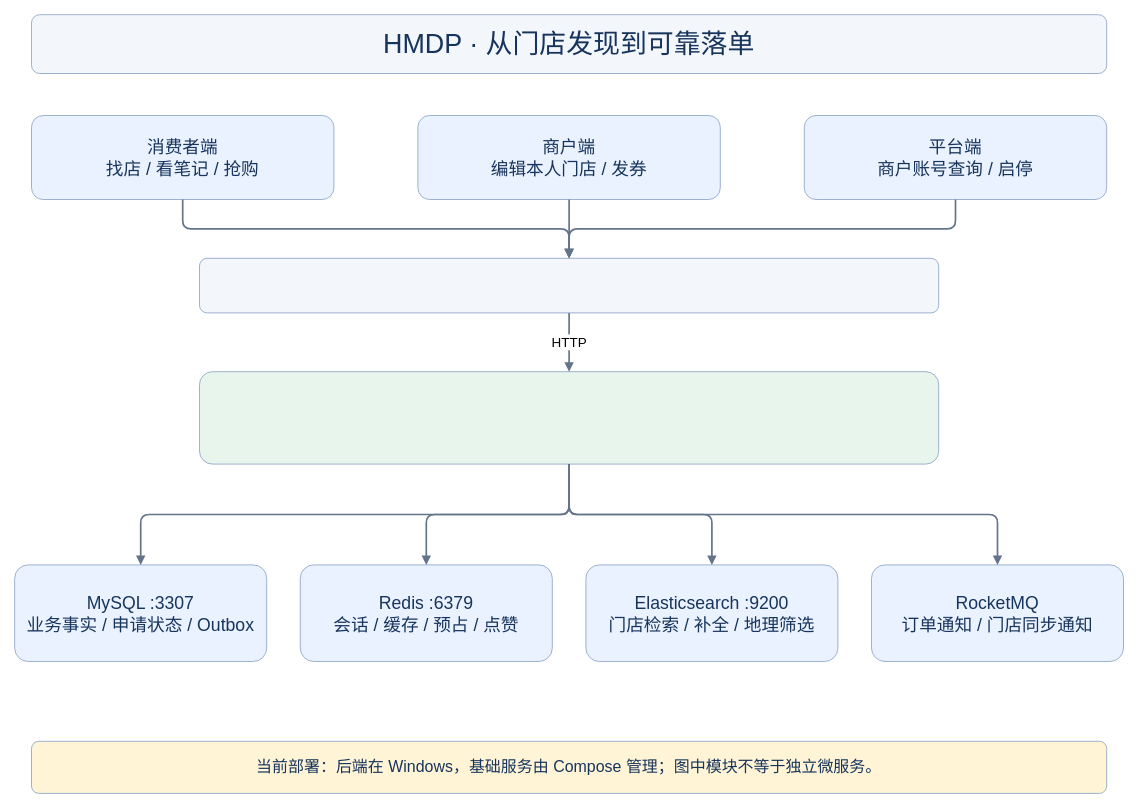
Some shapes in this 1138 by 808 pixel diagram are drawn without their labels. Here are the shapes that lost their labels. From the top down, the box of each, then its label:
(199, 257, 939, 313): Nginx :8080 静态页面 + /api 反向代理
(199, 371, 939, 464): Spring Boot :8081 · 单体后端 独立身份拦截 → Controller → Service → Mapper
